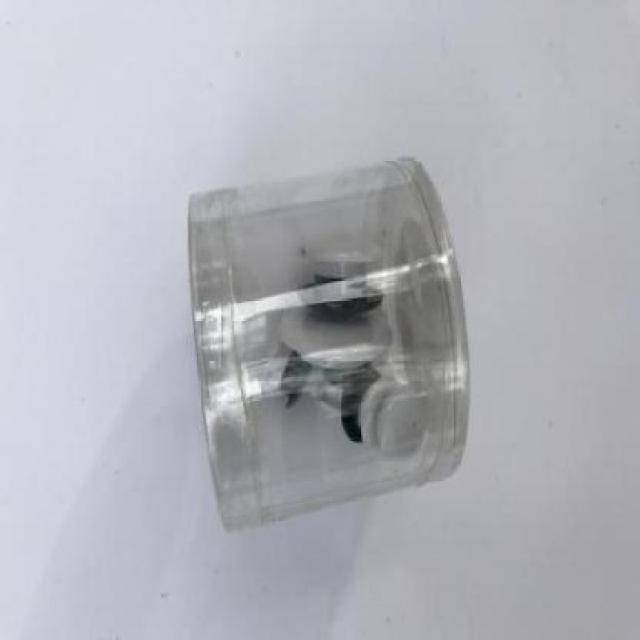PLASTIC: (187, 158, 470, 536)
